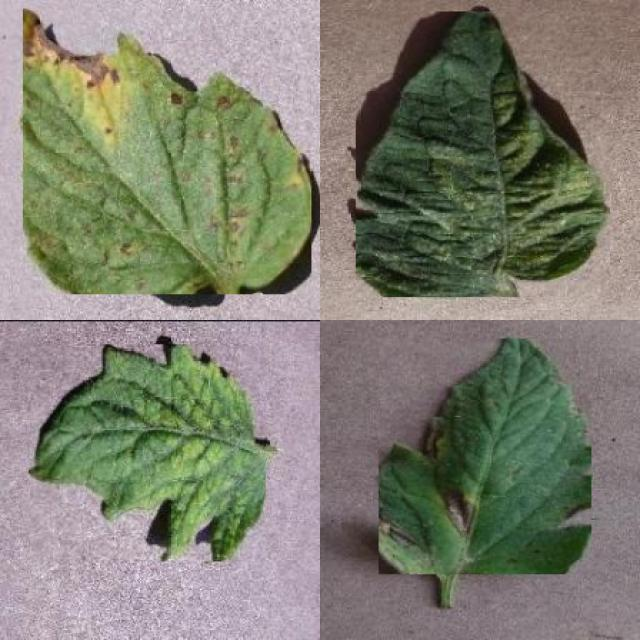Early Blight: (378, 339, 592, 574)
Mosaic Virus: (28, 344, 266, 562)
Septoria: (23, 9, 311, 294)
Spider Mites: (356, 12, 611, 298)
